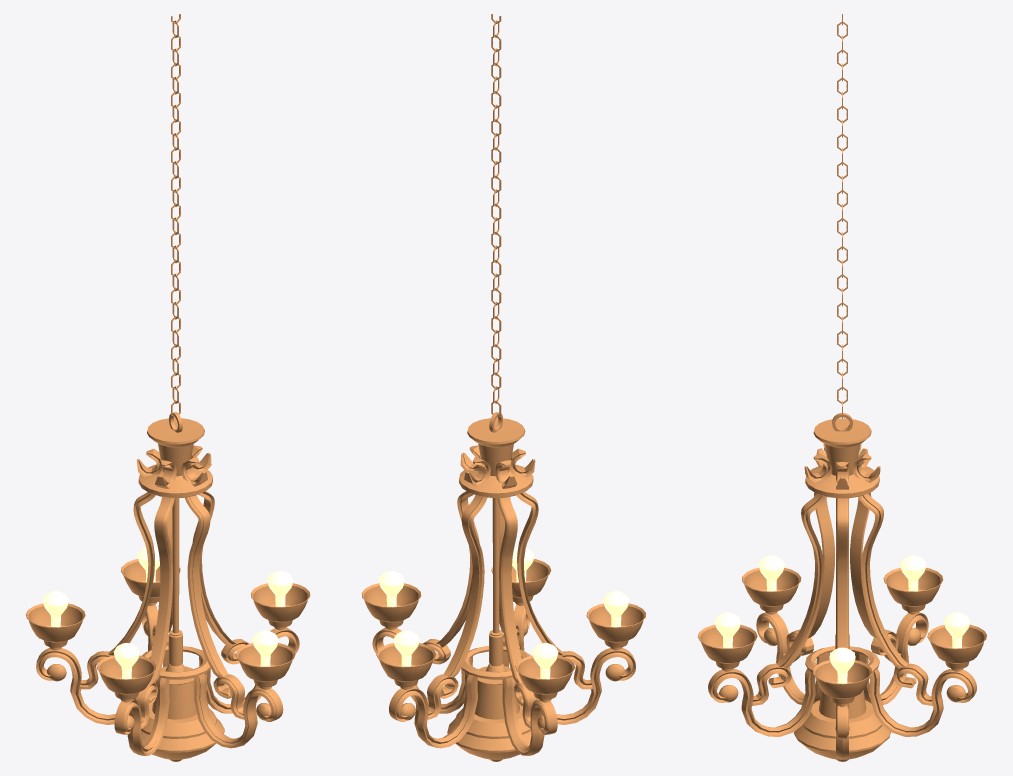
The model's file is chandelier.fbx.
3 renders of one model, left to right at view 1: azimuth 30°, elevation 25°; view 2: azimuth 150°, elevation 25°; view 3: azimuth 270°, elevation 25°, orthographic.
Visible parts, largest first — view 1: BezierCurve; view 2: BezierCurve; view 3: BezierCurve.
Part boxes in pixels (x1=…): BezierCurve: x1=25, y1=14, x2=310, y2=761; BezierCurve: x1=361, y1=14, x2=646, y2=761; BezierCurve: x1=697, y1=14, x2=987, y2=761.
Size of the model in its own units: 59.61 by 162 by 61.82.
